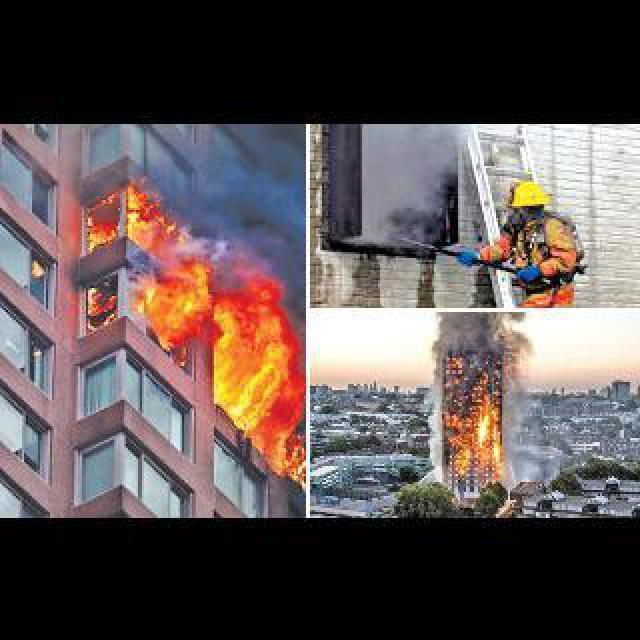Fire: (86, 184, 304, 476), (434, 370, 506, 488)
Smoke: (172, 122, 304, 282), (356, 122, 474, 232), (420, 306, 538, 362), (502, 312, 542, 474), (412, 310, 444, 488)
